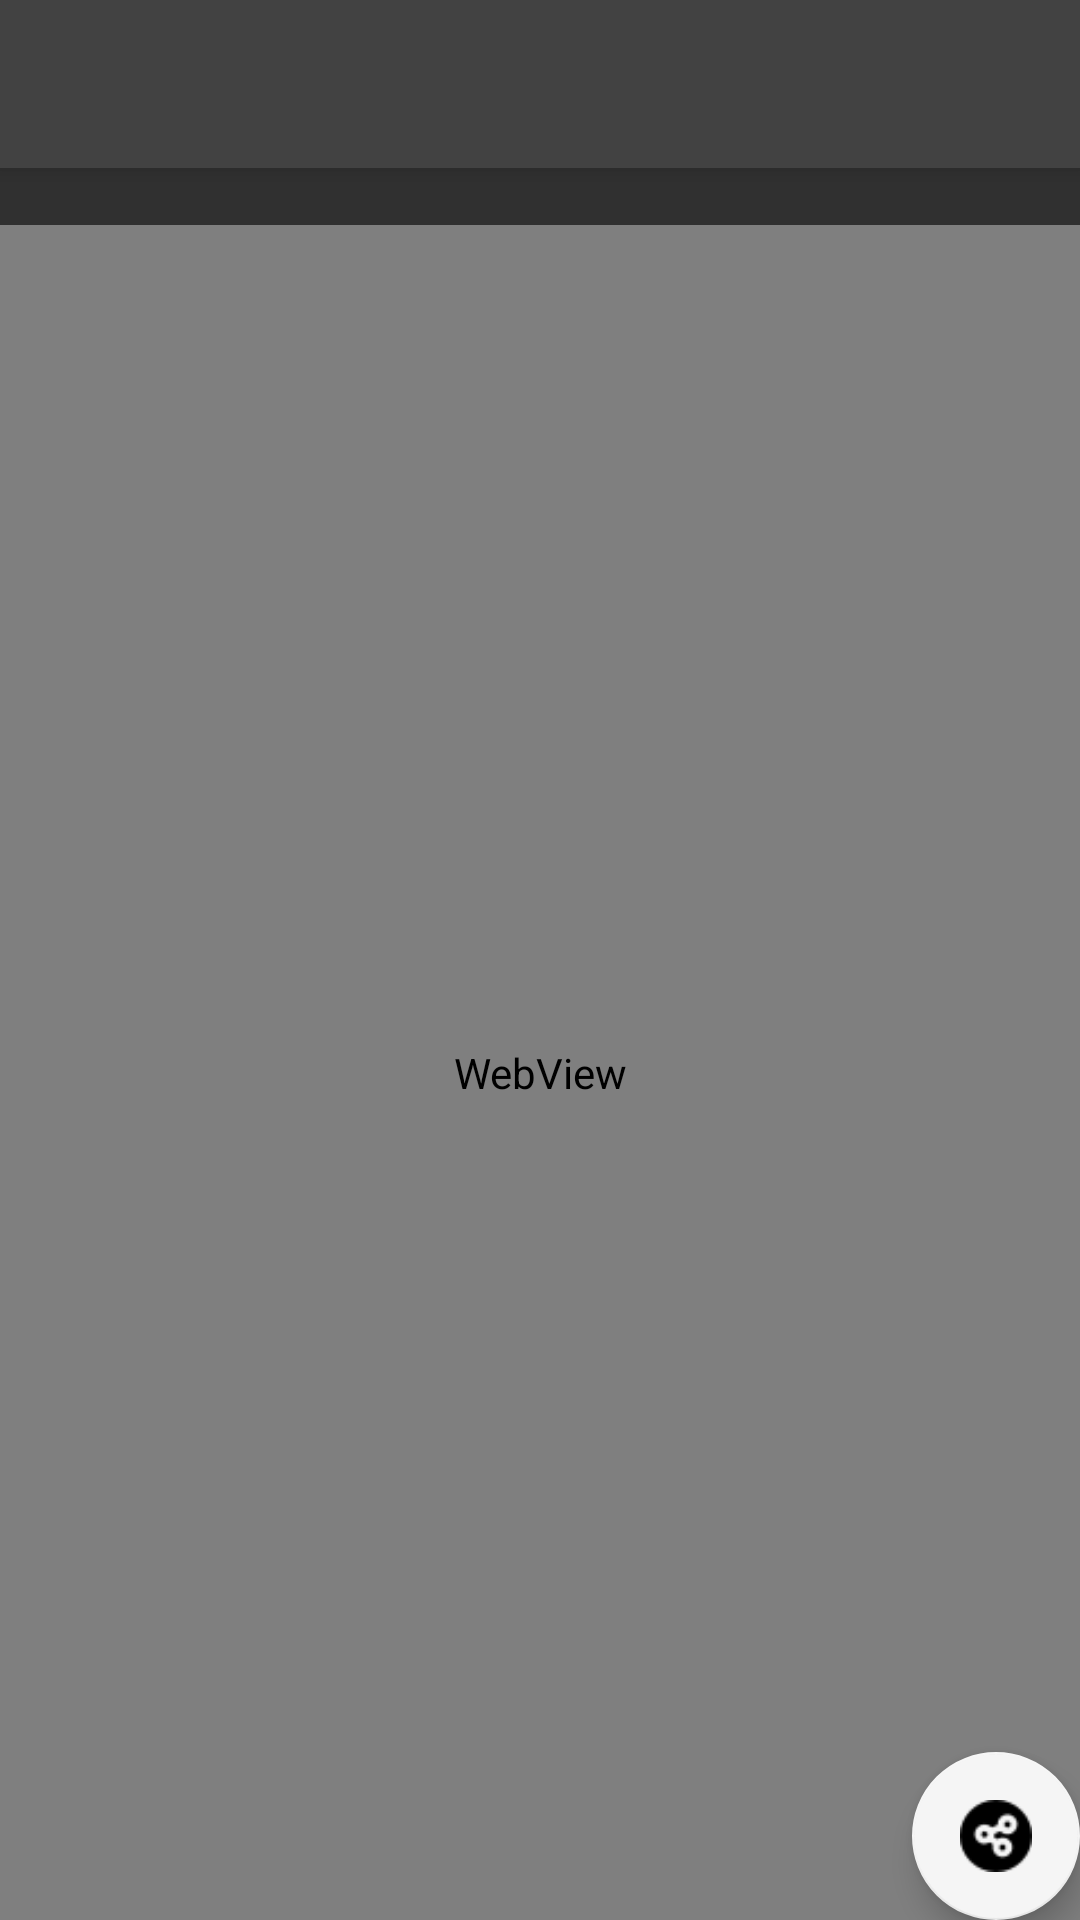

Named icons in this screenshot (1080px×1920px) and their centers, [x,y]:
share: [996,1836]
